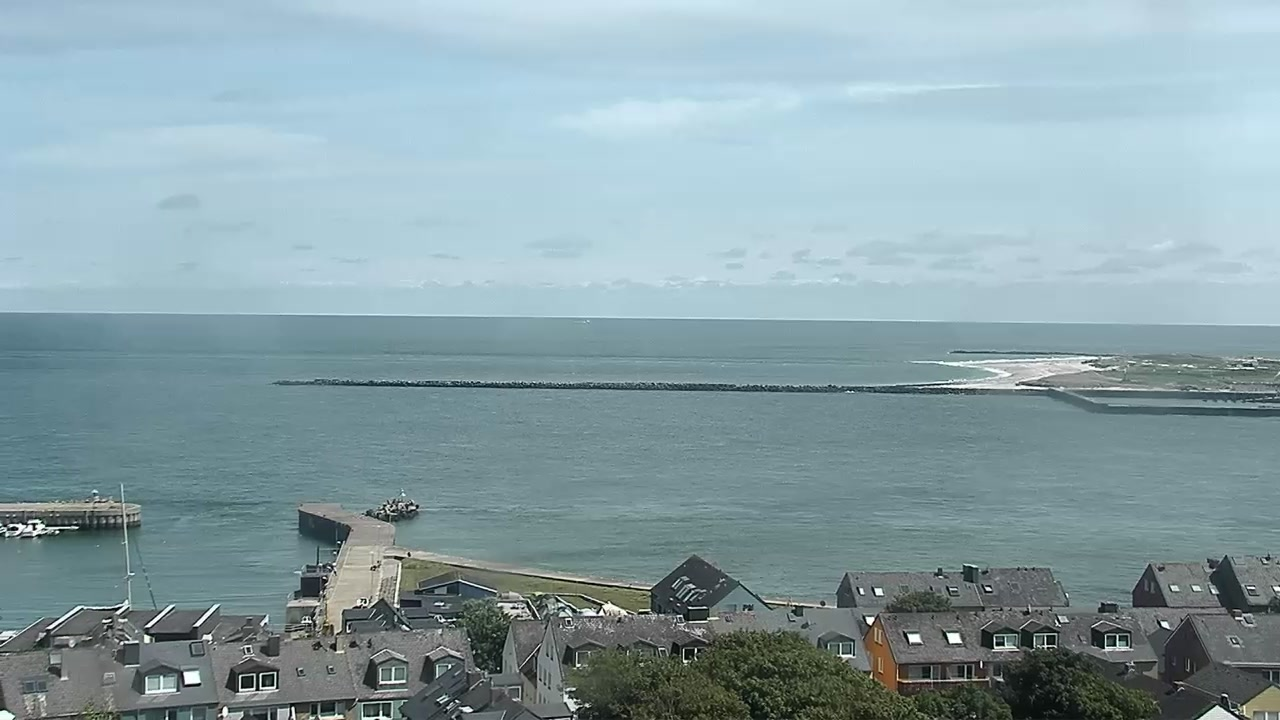human: (369, 559, 380, 571)
sea: (17, 518, 43, 538), (4, 522, 25, 537), (355, 596, 369, 608), (44, 527, 60, 536), (1, 521, 6, 535), (581, 319, 590, 325)
